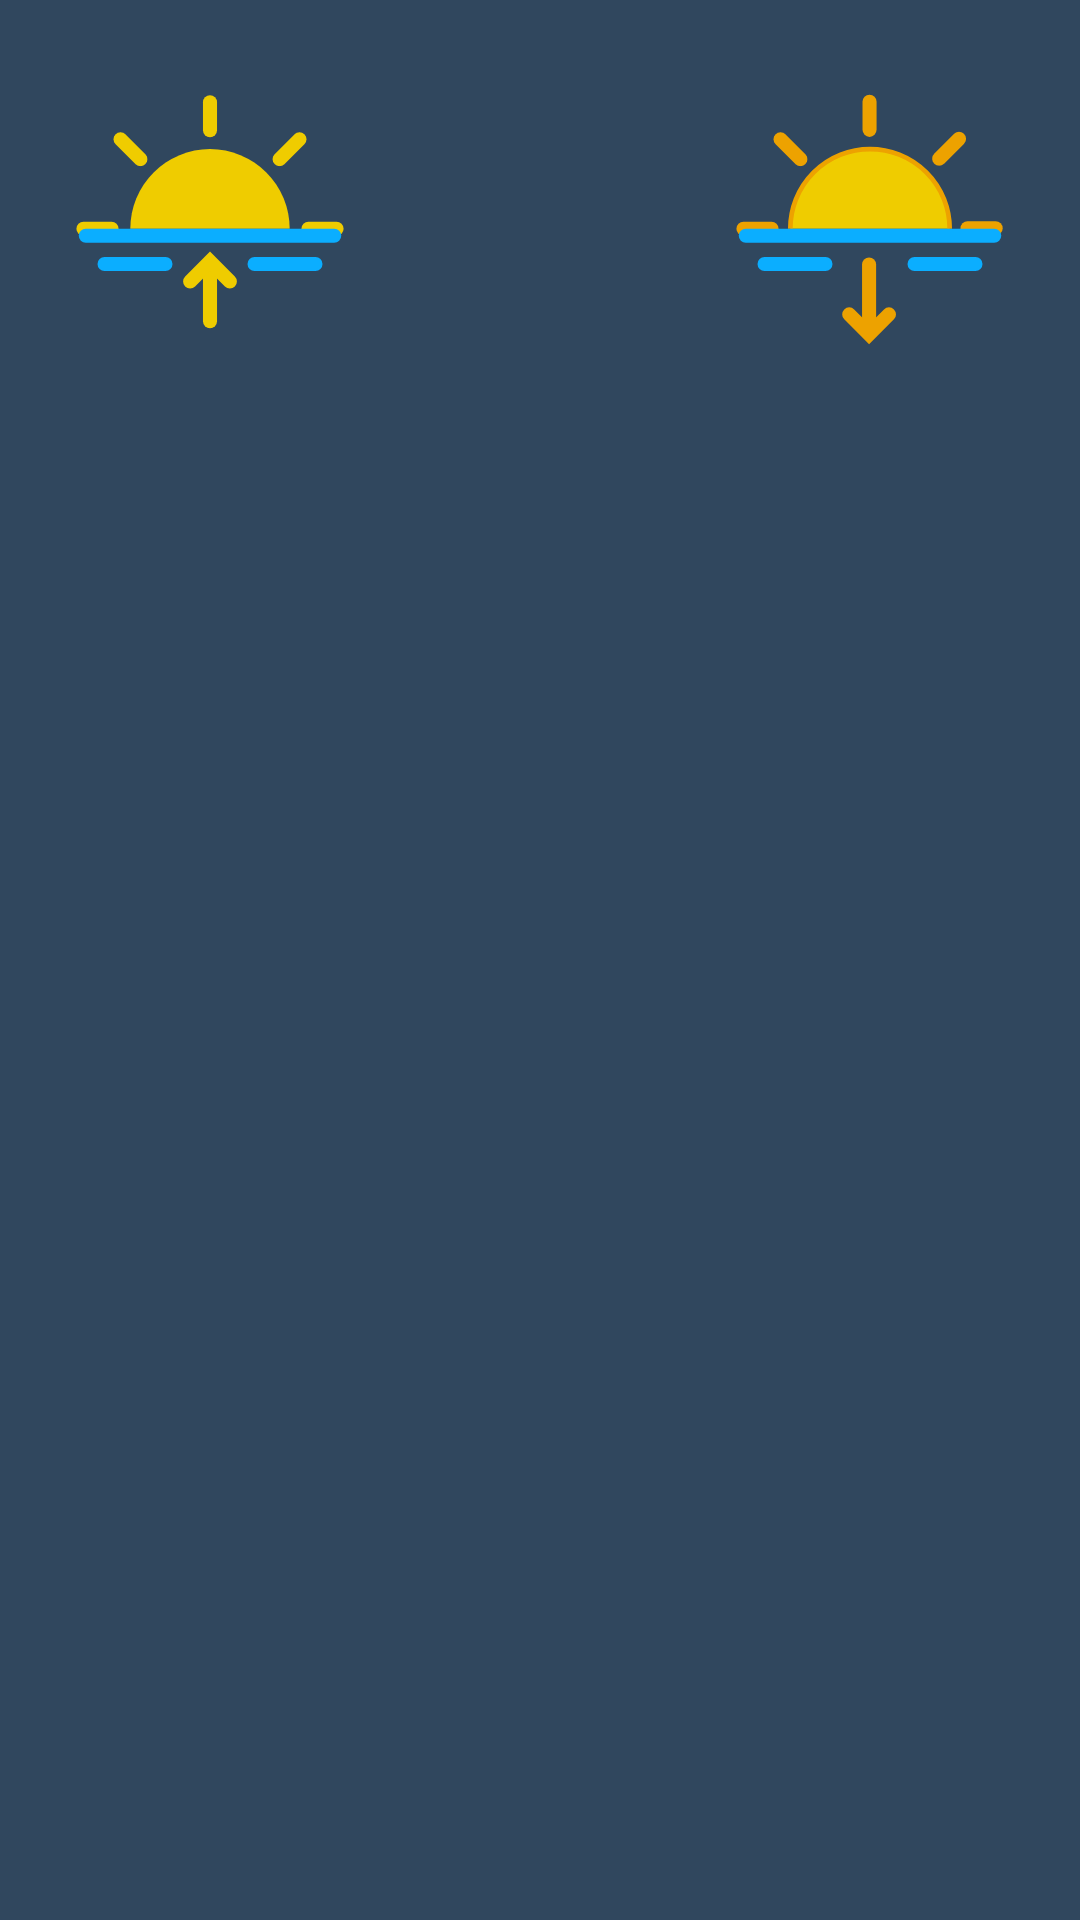

Locate icon controls on the screen. Image size 1080*1920, boxes as (x1, y1, x2, y2).
sun rise: (76, 95, 344, 329)
sun set: (736, 94, 1003, 344)
